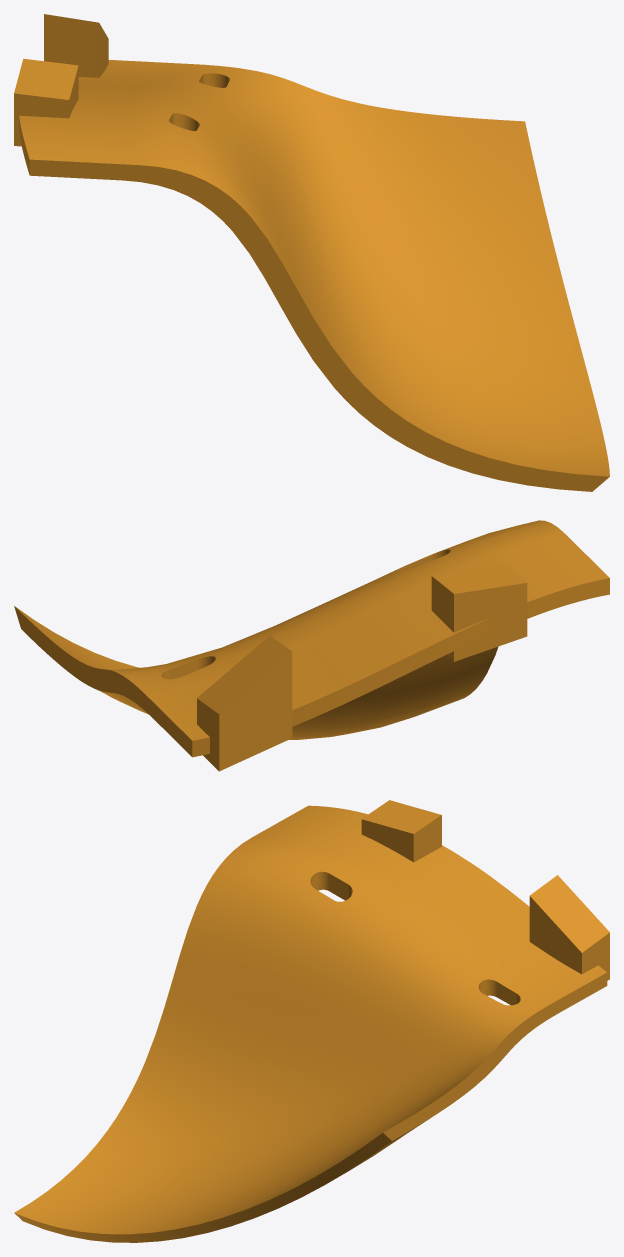
The picture shows the model from 3 angles, top to bottom: view 1: azimuth 30°, elevation 25°; view 2: azimuth 150°, elevation 25°; view 3: azimuth 270°, elevation 25°; orthographic projection. The views are drawn at different scales.
Parts seen in each view (by area): view 1: v2a_r1; view 2: v2a_r1; view 3: v2a_r1.
Boxes of the visible parts, bbox=[...] form: v2a_r1: bbox=[14, 14, 609, 491]; v2a_r1: bbox=[14, 520, 609, 771]; v2a_r1: bbox=[14, 800, 609, 1242].
Size of the model in its own units: 0.1117 by 0.066 by 0.1272.
